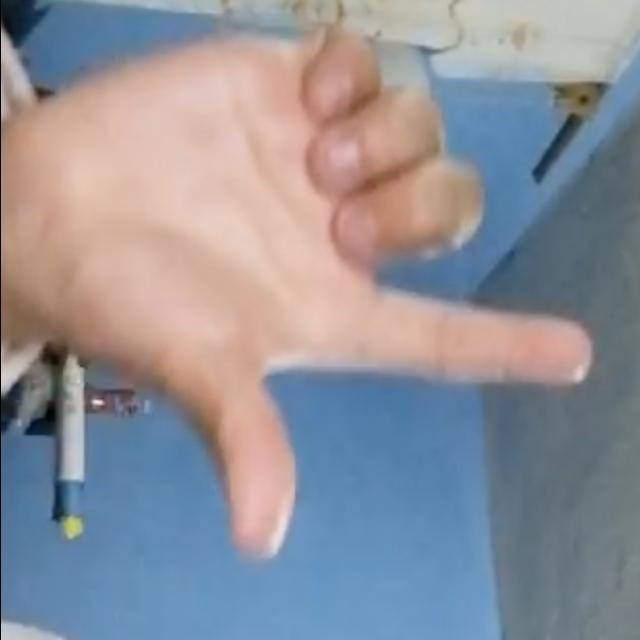LL: (6, 18, 594, 584)
